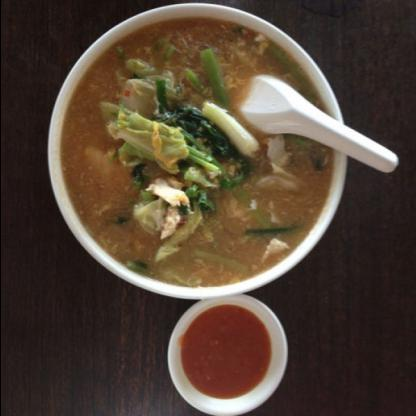Suki: (39, 18, 344, 287)
